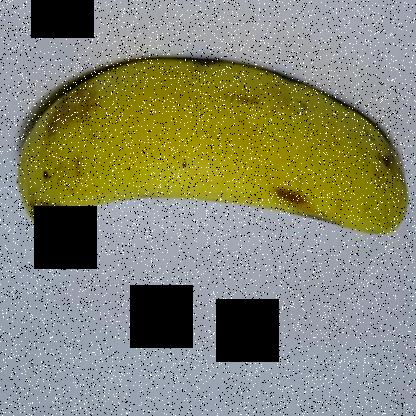freshripe: (9, 50, 415, 270)
